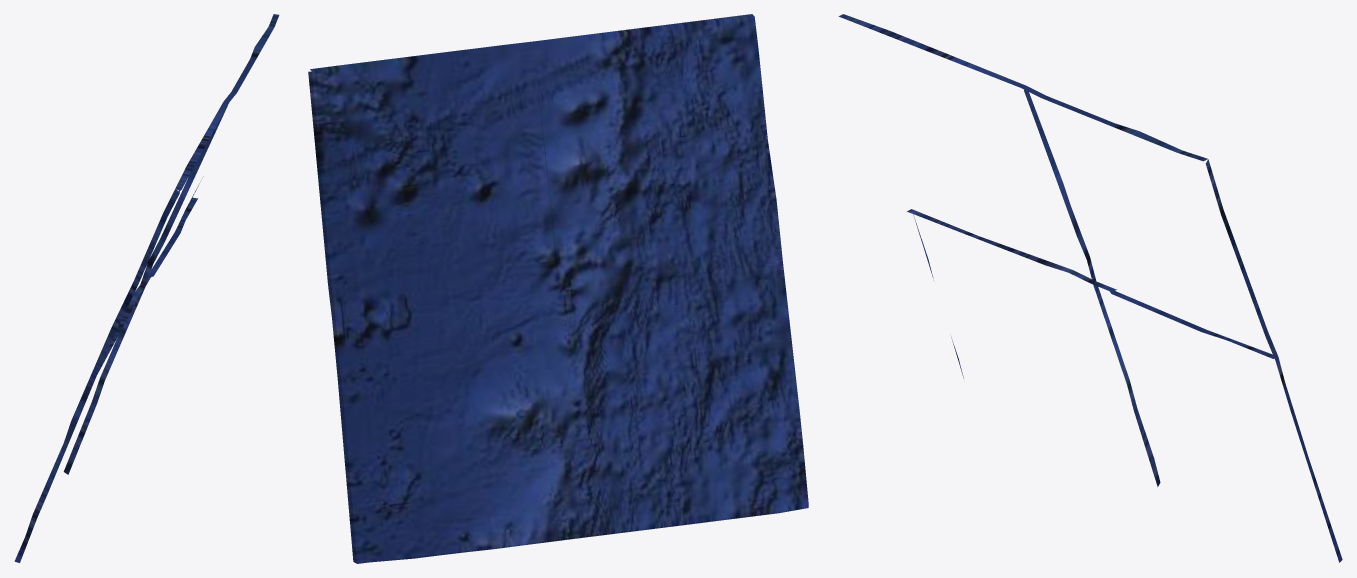
3 renders of one model, left to right at view 1: azimuth 30°, elevation 25°; view 2: azimuth 150°, elevation 25°; view 3: azimuth 270°, elevation 25°, orthographic. The views are drawn at different scales.
Bounding box in the file's own units: 286542 × 294778 × 292779.
1 material, 1 textured.
